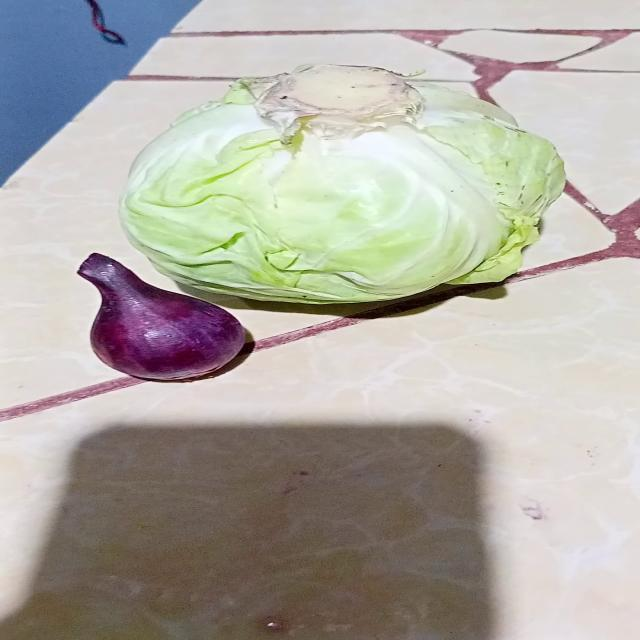cabbage: (118, 62, 569, 309)
onion: (67, 256, 247, 385)
